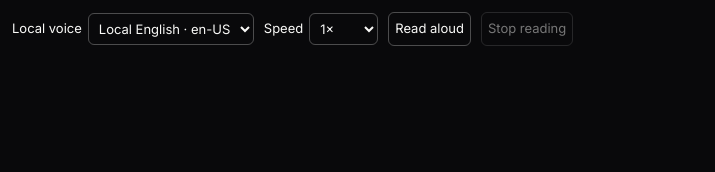
Test: explicit local notebook read aloud › does not continue queued text if the local voice disappears
The width and height of the screenshot is (715, 172).
Click the button "Read aloud". click: (430, 29)
box: [388,12,471,46]
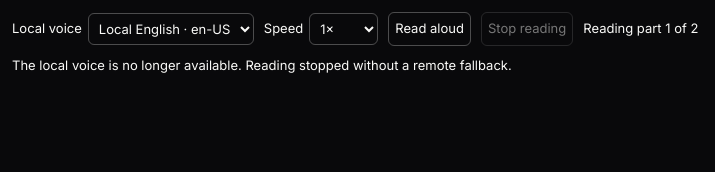
Now the 2nd message shows "without a remote fallback", box [12,56,512,72]
